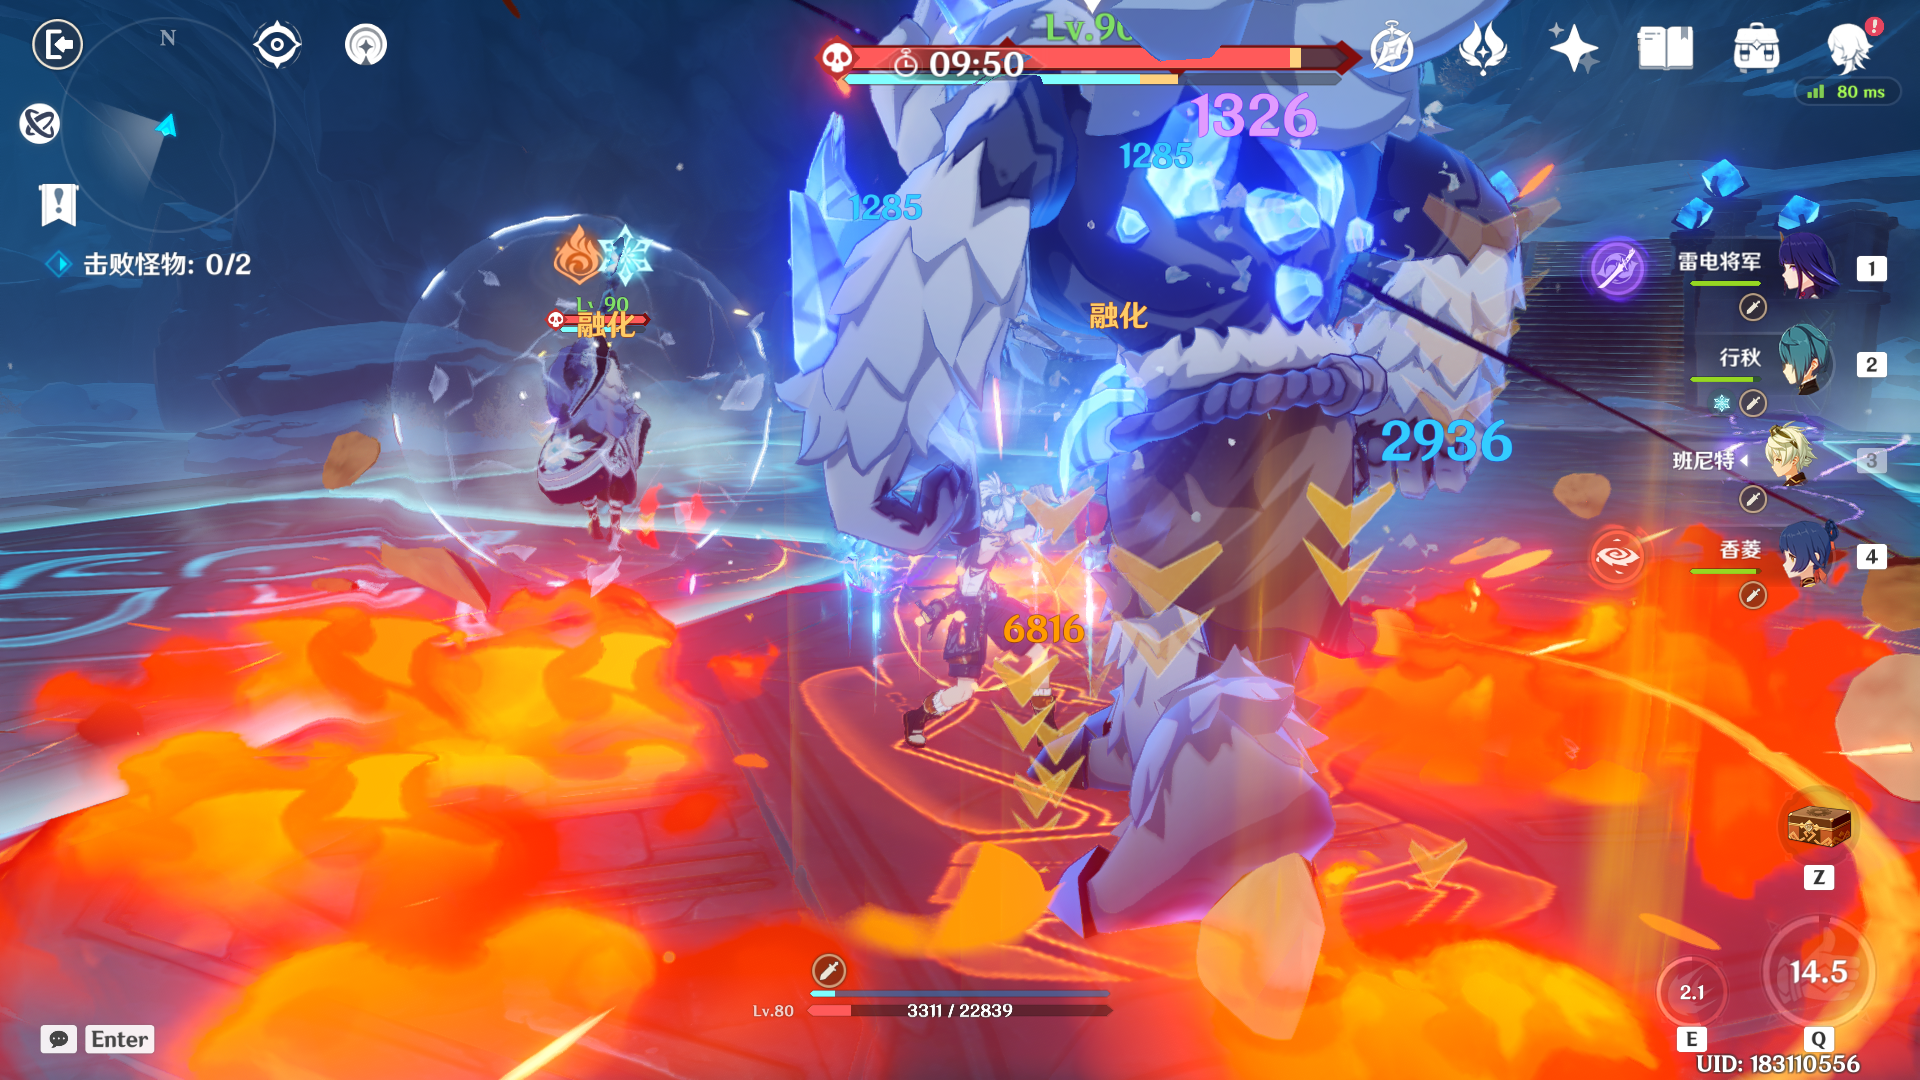bosshili: (736, 1, 1563, 942)
caster: (462, 216, 746, 534)
